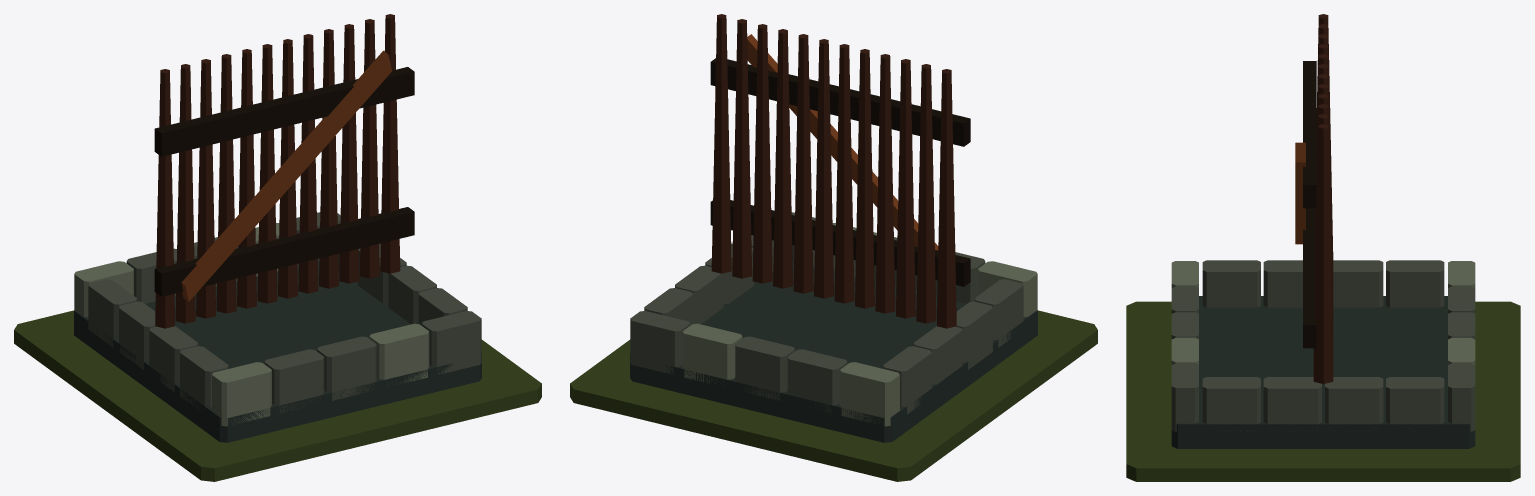
Rendered from wall_t3.glb.
The picture shows the model from 3 angles, left to right: view 1: azimuth 30°, elevation 25°; view 2: azimuth 150°, elevation 25°; view 3: azimuth 270°, elevation 25°; orthographic projection.
Visible parts, largest first — view 1: MMR | wall | T03 Architecture.001, MMR | wall | Tier 03 Ground.001; view 2: MMR | wall | T03 Architecture.001, MMR | wall | Tier 03 Ground.001; view 3: MMR | wall | T03 Architecture.001, MMR | wall | Tier 03 Ground.001.
Part boxes in pixels (left/top/right/bottom): MMR | wall | T03 Architecture.001: left=74, top=14, right=481, bottom=442; MMR | wall | Tier 03 Ground.001: left=14, top=310, right=541, bottom=481; MMR | wall | T03 Architecture.001: left=630, top=14, right=1037, bottom=442; MMR | wall | Tier 03 Ground.001: left=570, top=310, right=1097, bottom=481; MMR | wall | T03 Architecture.001: left=1171, top=14, right=1475, bottom=448; MMR | wall | Tier 03 Ground.001: left=1126, top=301, right=1520, bottom=481.
Bounding box in the file's own units: 1.3 × 1.19 × 1.3.
Materials: 1 (1 with a texture image).
